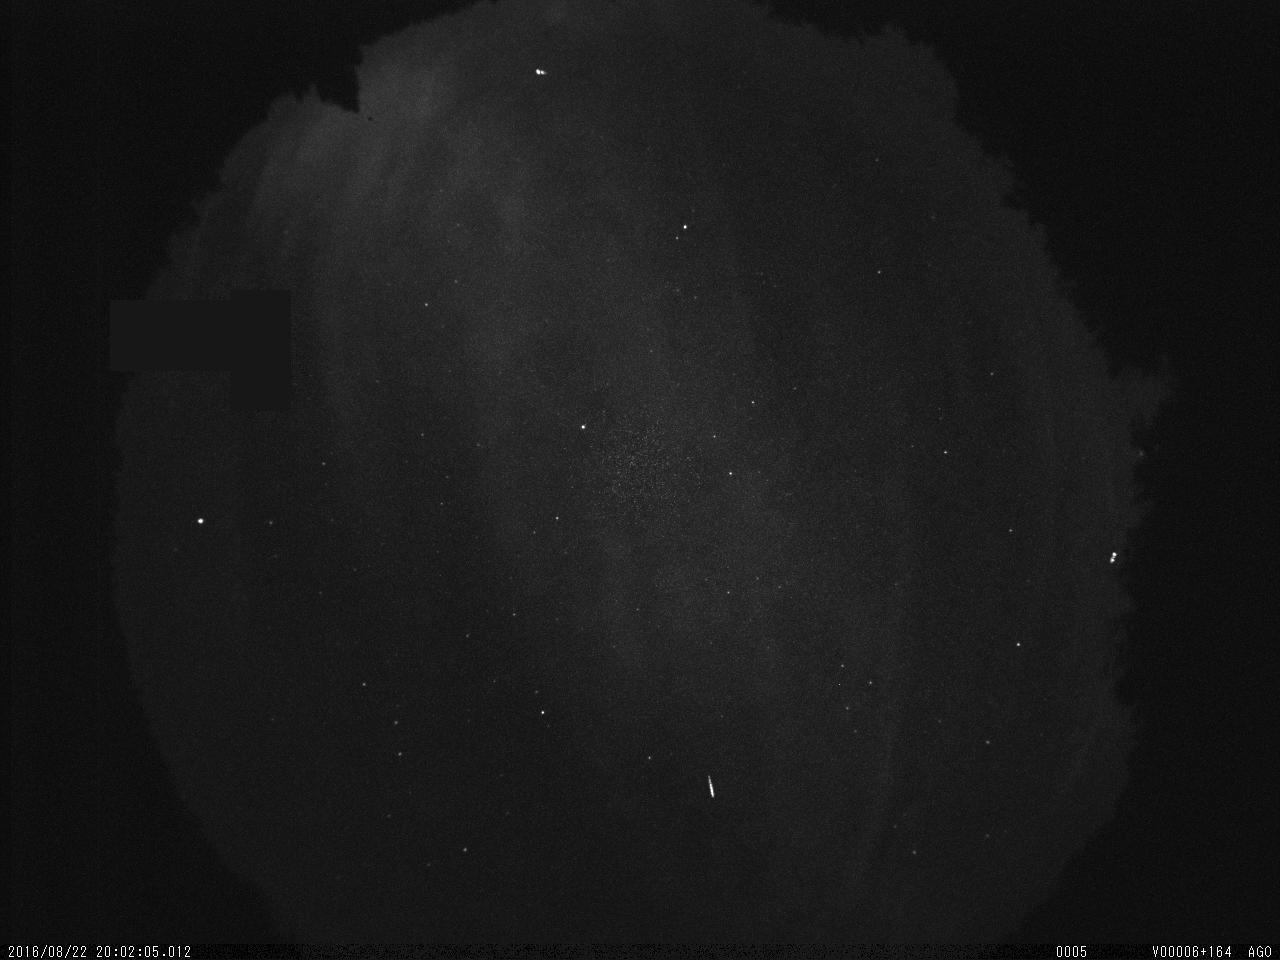meteor: (689, 759, 732, 811)
